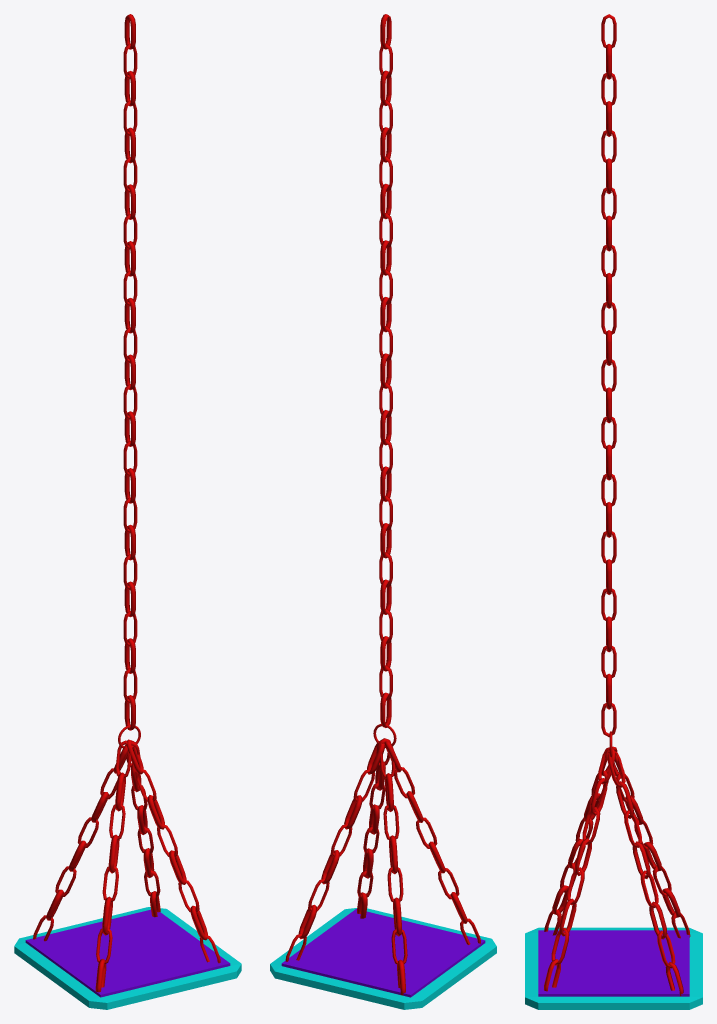
File: SM_breadHolder.fbx
The picture shows the model from 3 angles, left to right: view 1: azimuth 30°, elevation 25°; view 2: azimuth 150°, elevation 25°; view 3: azimuth 270°, elevation 25°; orthographic projection.
Visible parts, largest first — view 1: BezierCircle; view 2: BezierCircle; view 3: BezierCircle.
Part boxes in pixels (x1,y1,x2,y2): BezierCircle: (14, 14, 241, 1009); BezierCircle: (270, 14, 496, 1009); BezierCircle: (525, 14, 702, 1009).
Size of the model in its own units: 50.69 by 301 by 50.69.
